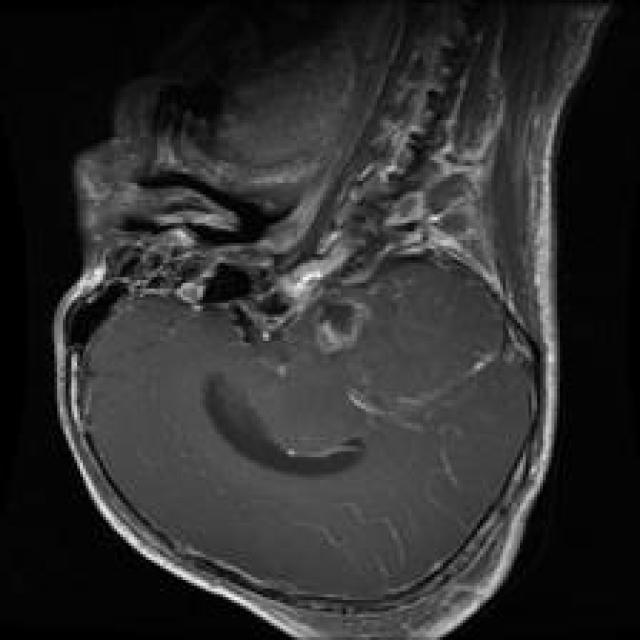glioma_tumor: (298, 286, 380, 374)
